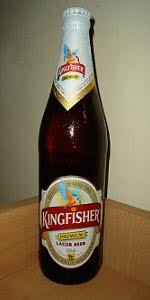glass_bottle: (31, 2, 114, 290)
